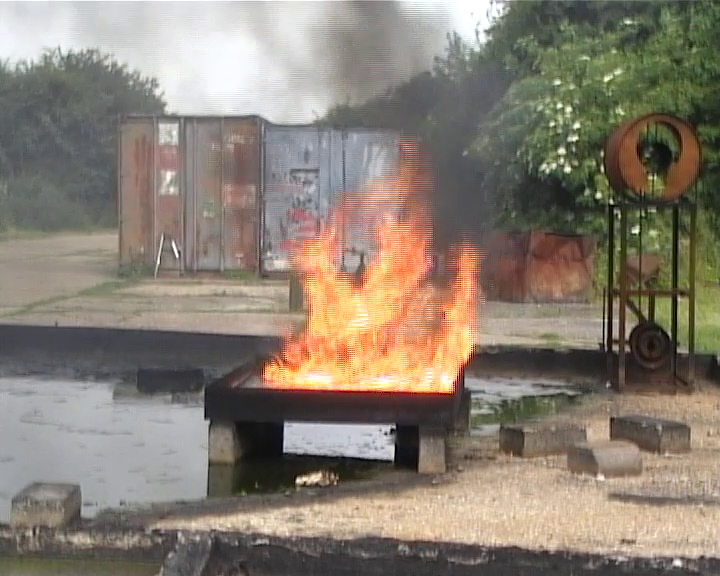fire: (261, 191, 478, 388)
